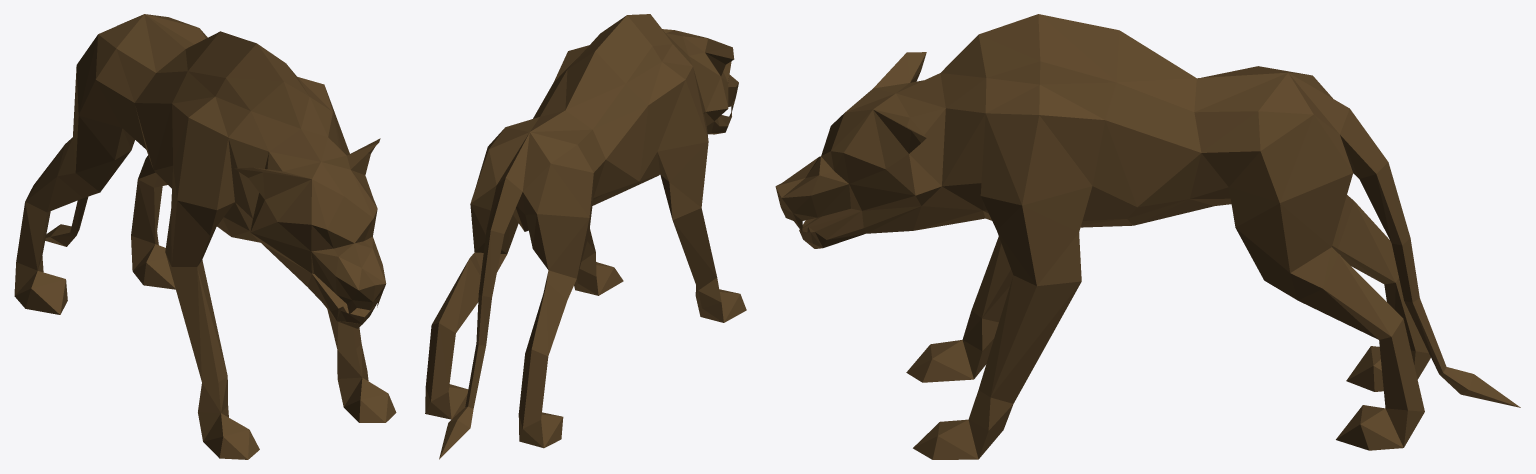
File: WOL_BODY.OBJ
3 renders of one model, left to right at view 1: azimuth 30°, elevation 25°; view 2: azimuth 150°, elevation 25°; view 3: azimuth 270°, elevation 25°, orthographic. The views are drawn at different scales.
Parts seen in each view (by area): view 1: WOL_BODY; view 2: WOL_BODY; view 3: WOL_BODY.
Boxes of the visible parts, bbox=[...] form: WOL_BODY: bbox=[14, 14, 396, 459]; WOL_BODY: bbox=[425, 14, 746, 459]; WOL_BODY: bbox=[775, 14, 1520, 459].
Bounding box in the file's own units: 0.5952 × 1.14 × 1.93.
